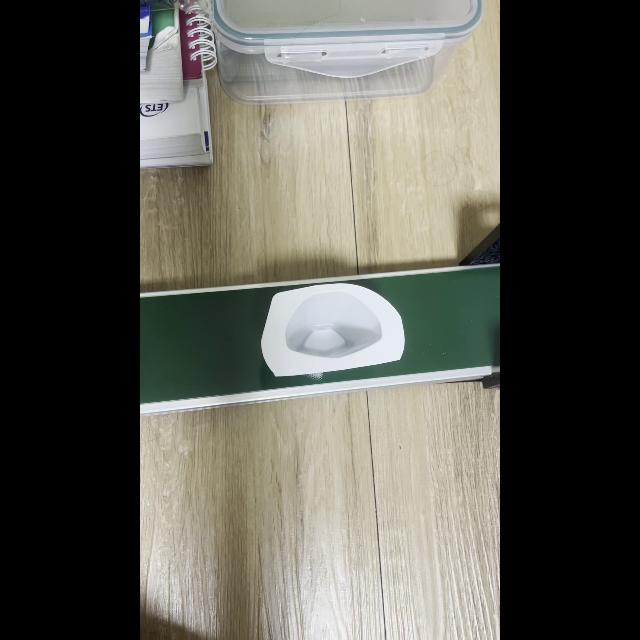clean: (261, 283, 405, 377)
